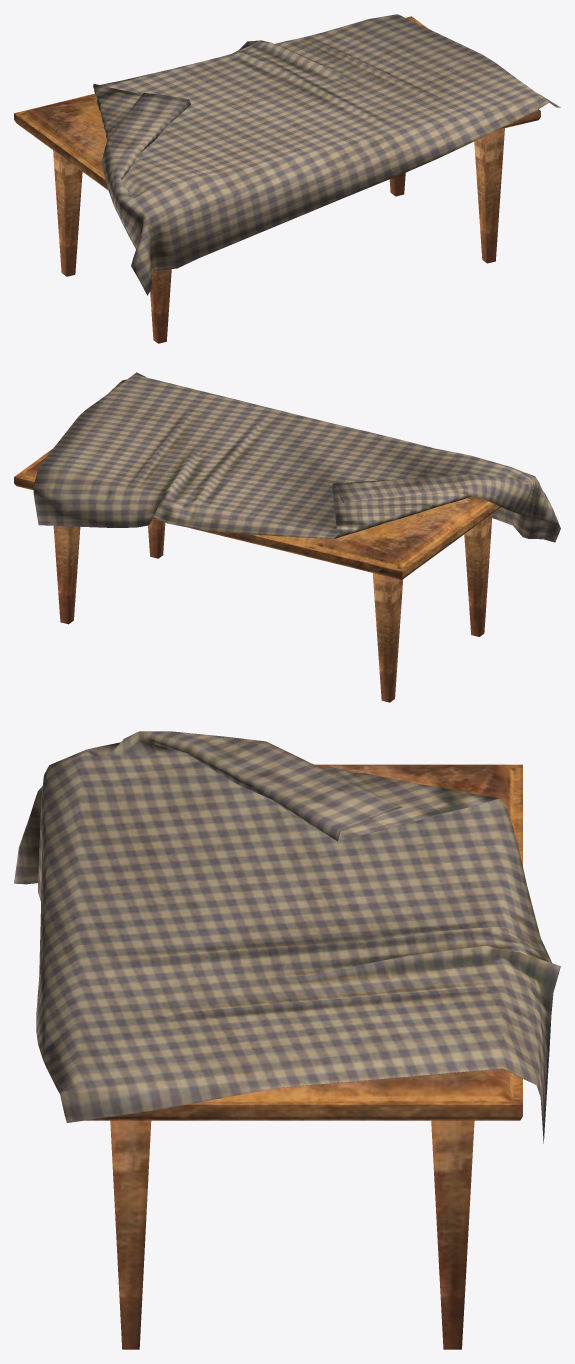
3 views of the same model, one above another, from view 1: azimuth 30°, elevation 25°; view 2: azimuth 150°, elevation 25°; view 3: azimuth 270°, elevation 25° (orthographic). The views are drawn at different scales.
Parts seen in each view (by area): view 1: dining_table_cloth, dining_table; view 2: dining_table_cloth, dining_table; view 3: dining_table_cloth, dining_table.
Part boxes in pixels (left/top/right/bottom): dining_table_cloth: left=93, top=14, right=560, bottom=295; dining_table: left=14, top=16, right=540, bottom=343; dining_table_cloth: left=33, top=372, right=560, bottom=542; dining_table: left=14, top=449, right=501, bottom=702; dining_table_cloth: left=14, top=731, right=560, bottom=1143; dining_table: left=85, top=764, right=522, bottom=1349.
Bounding box in the file's own units: 2.26 × 0.877 × 1.39.
1 material, 1 textured.
